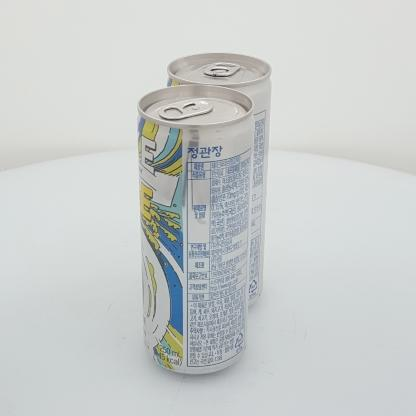---------: (137, 84, 255, 374)
